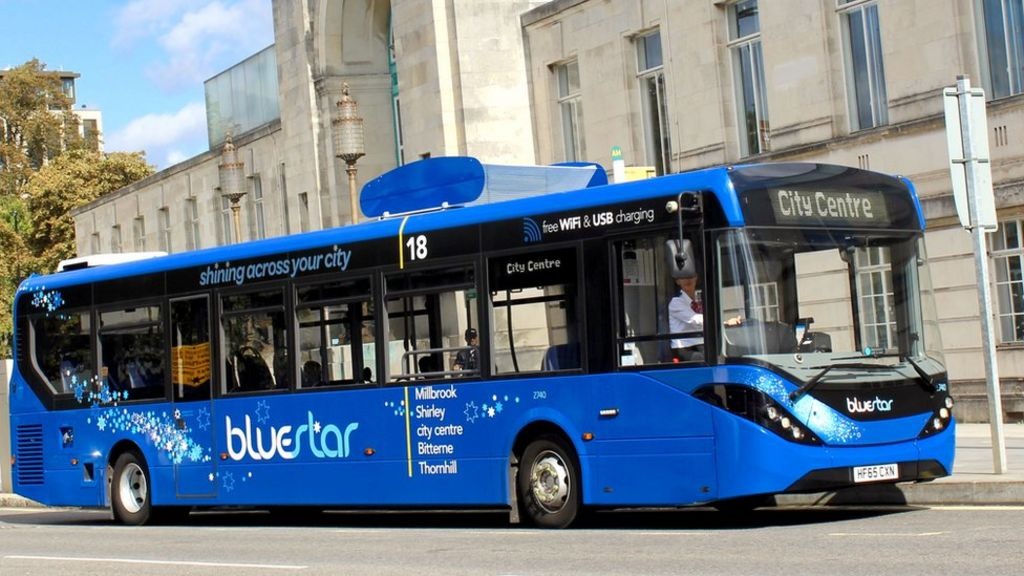bus: (13, 148, 959, 529)
